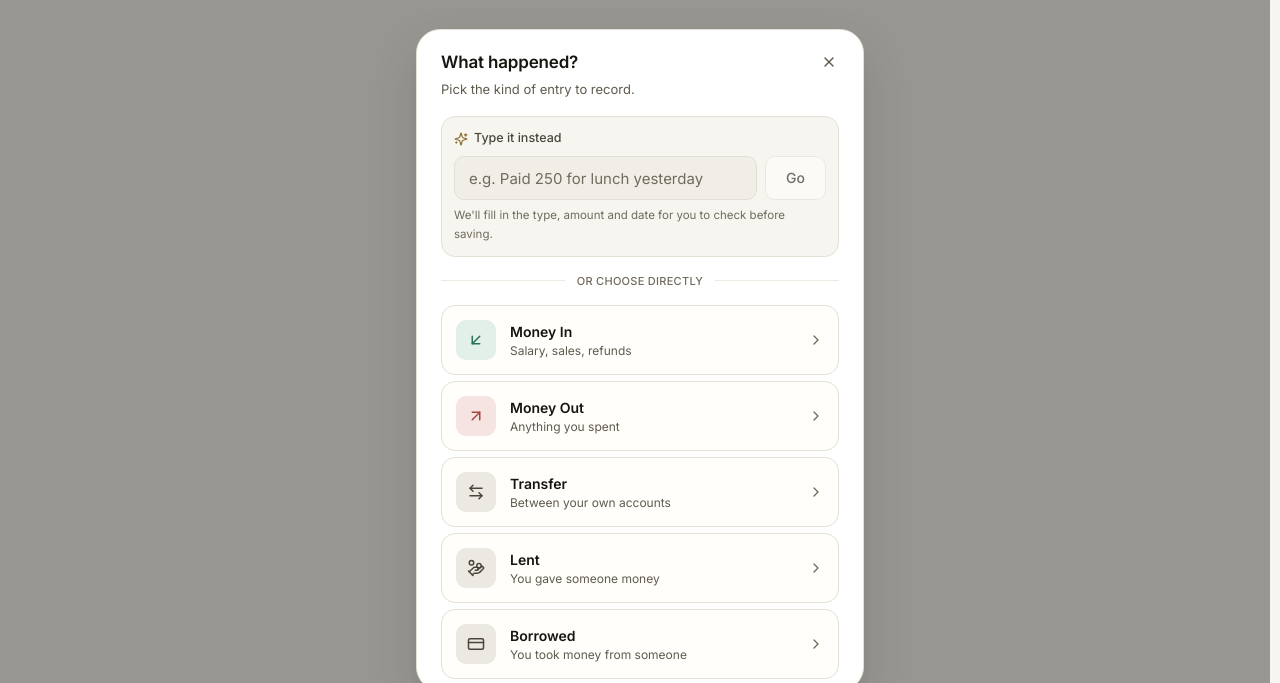
Test: <QuickAddSheet> typed entry reads accounts and asks about the rest (§Phase 2) › asks who it was with for a loan, and stops asking once a person is picked
Type "Meena owes me 400" into the field with id "nl-quick-entry".
click(606, 178); type("Meena owes me 400")  # box [454, 156, 757, 200]
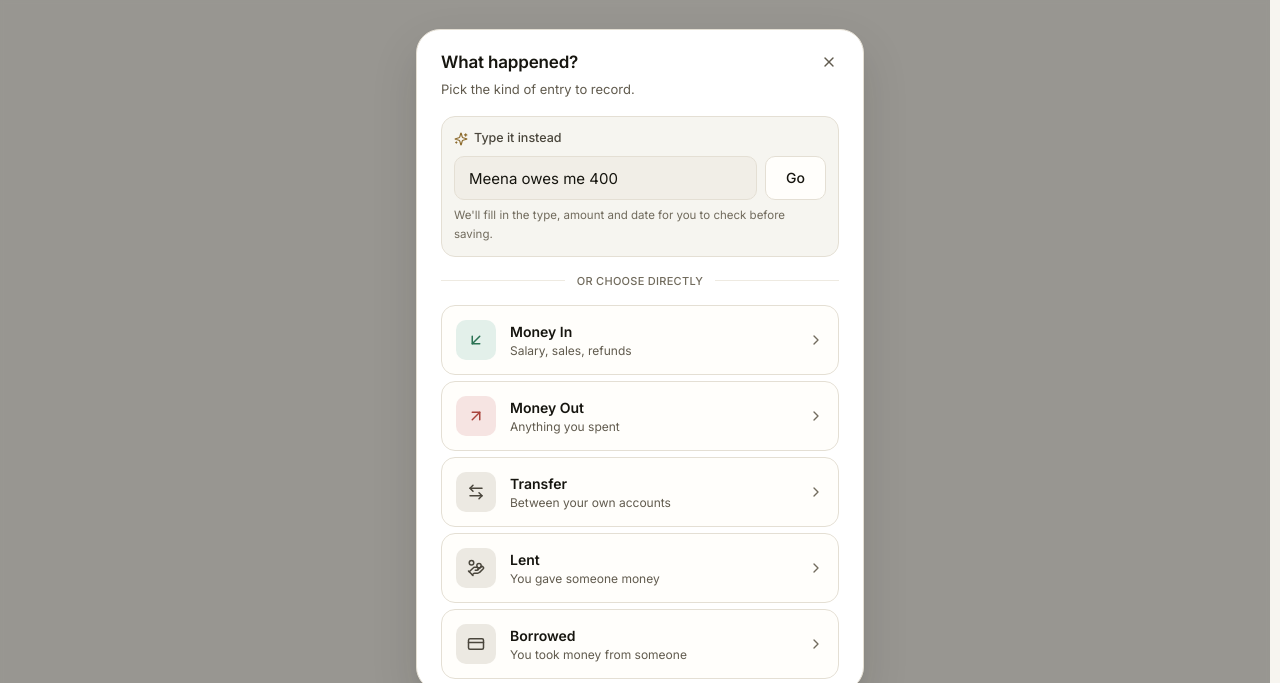
Click the button "Go".
click(796, 178)  # box [765, 156, 826, 200]
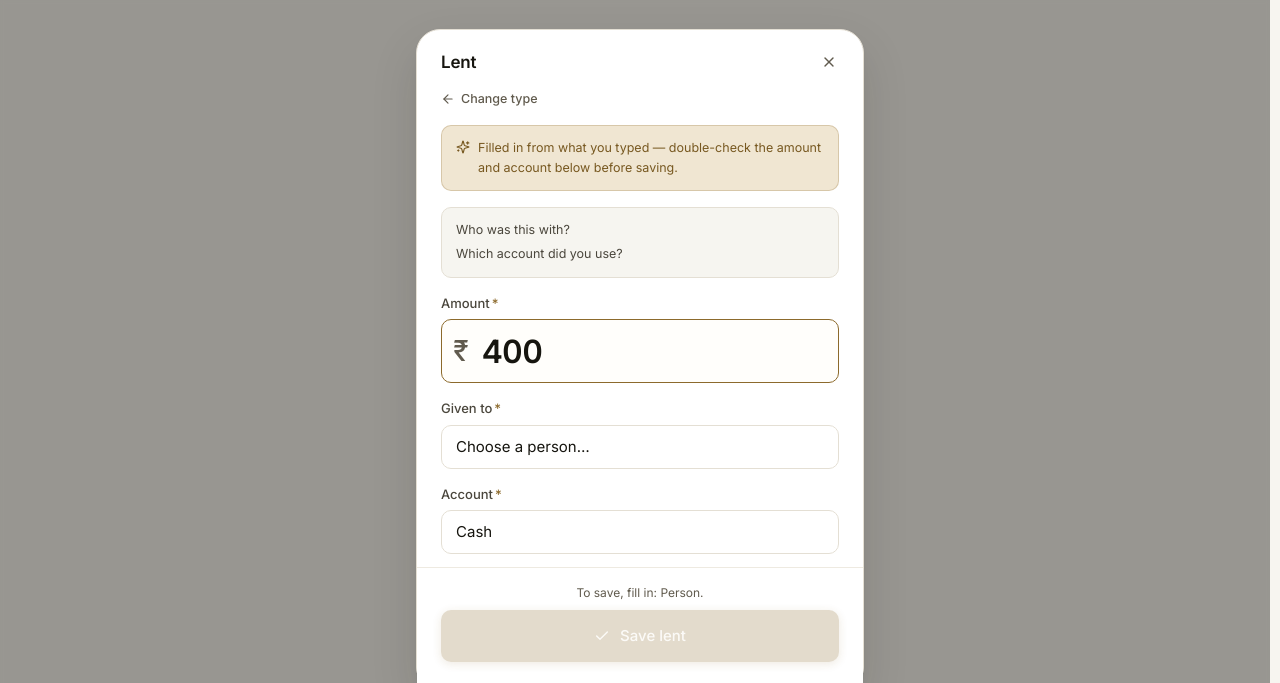
Result: the list item "Who was this with?" is shown at [456, 222, 570, 237]
Select "Ravi" in the dropdown labelled "Given to*" at [640, 447], box [441, 425, 839, 469]
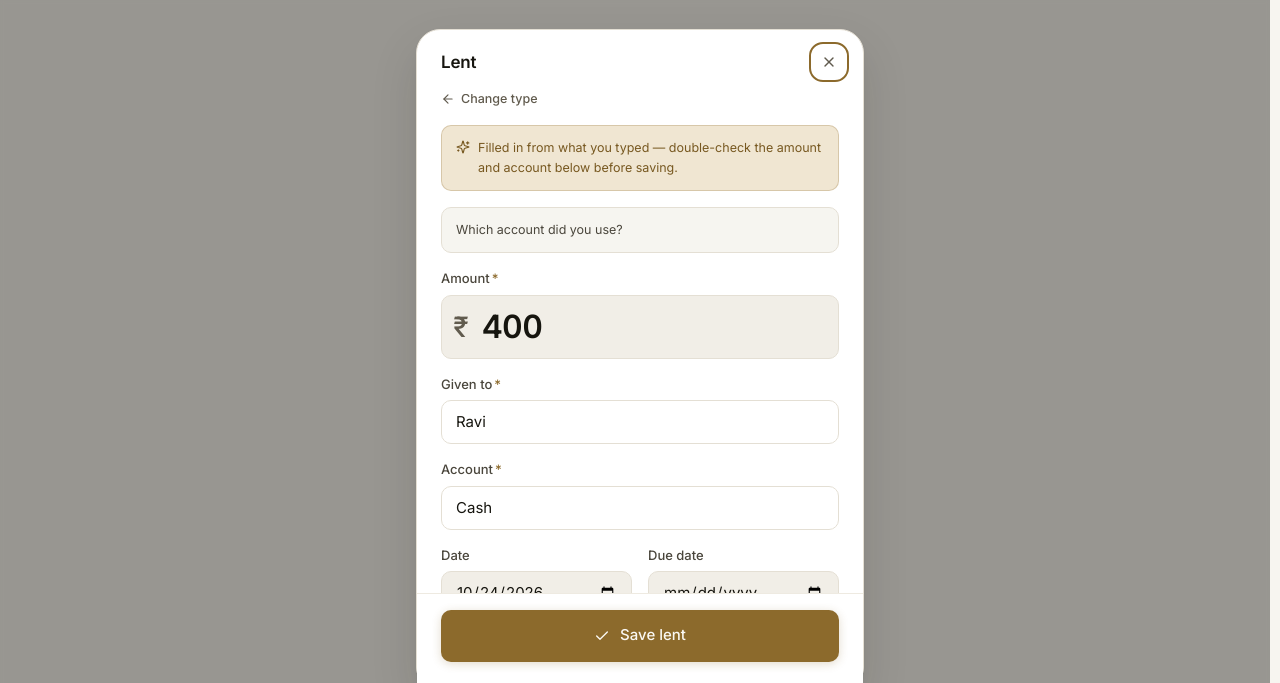
Result: the list item "Who was this with?" is gone
